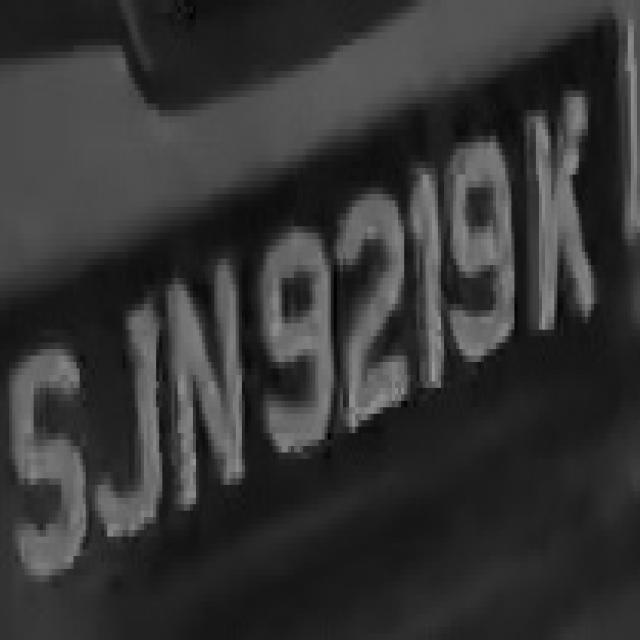1: (401, 104, 447, 408)
2: (328, 181, 410, 446)
9: (257, 220, 334, 472), (444, 136, 511, 375)
J: (80, 258, 165, 569)
K: (514, 71, 591, 356)
N: (162, 239, 248, 517)
S: (12, 310, 89, 614)
